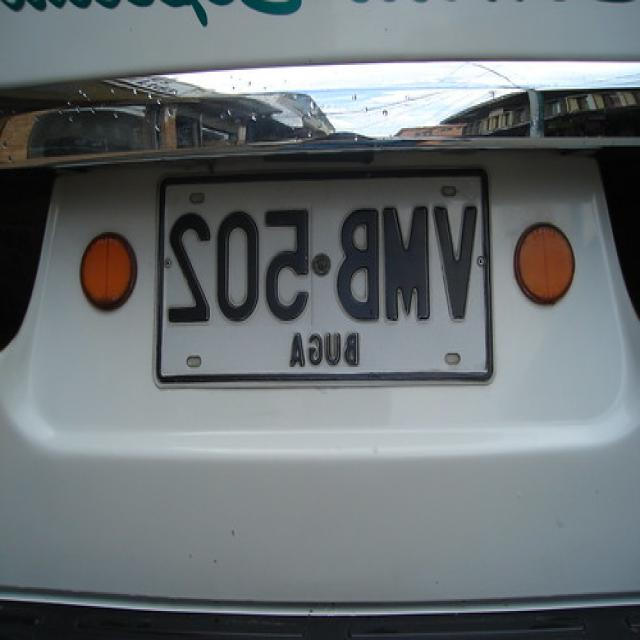placas: (163, 181, 478, 335)
